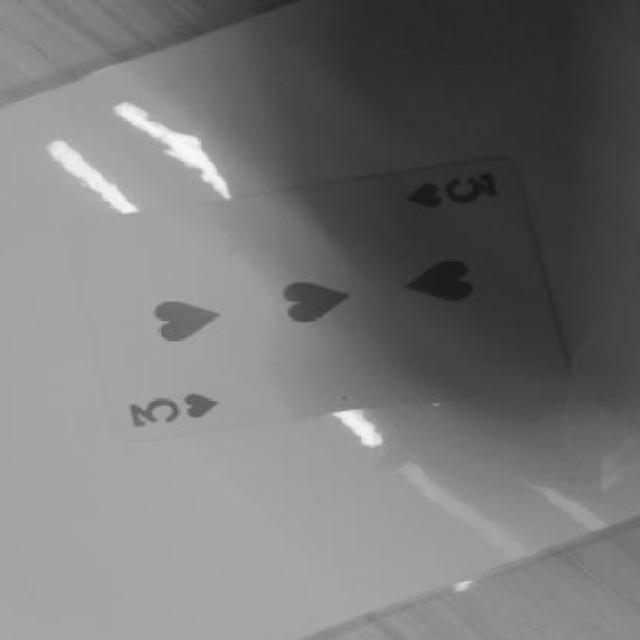3S: (363, 157, 548, 246), (94, 380, 288, 448)
